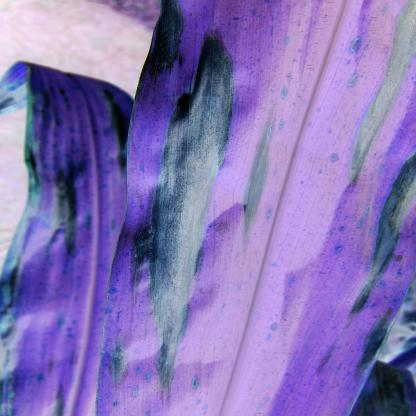Corn leaf blight: (114, 2, 416, 403), (4, 50, 117, 416)
